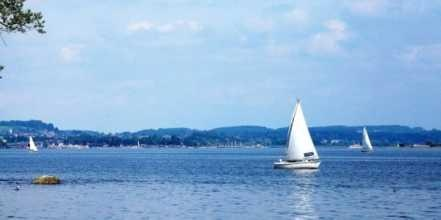fanchuan: (272, 100, 320, 170), (347, 126, 378, 153), (24, 135, 40, 155)
